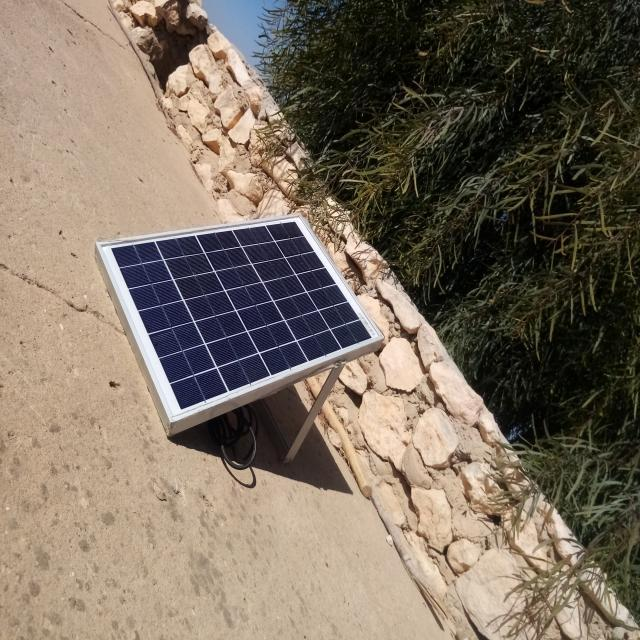no faulty: (95, 212, 383, 423)
